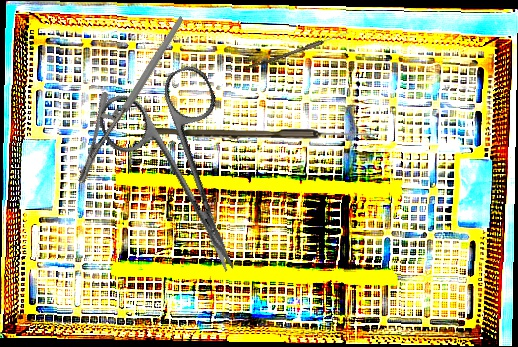Iris Scissors: (92, 60, 280, 295)
Needle Holder: (38, 16, 225, 186)
Surgical Spoon: (246, 29, 350, 72), (146, 128, 379, 139)
